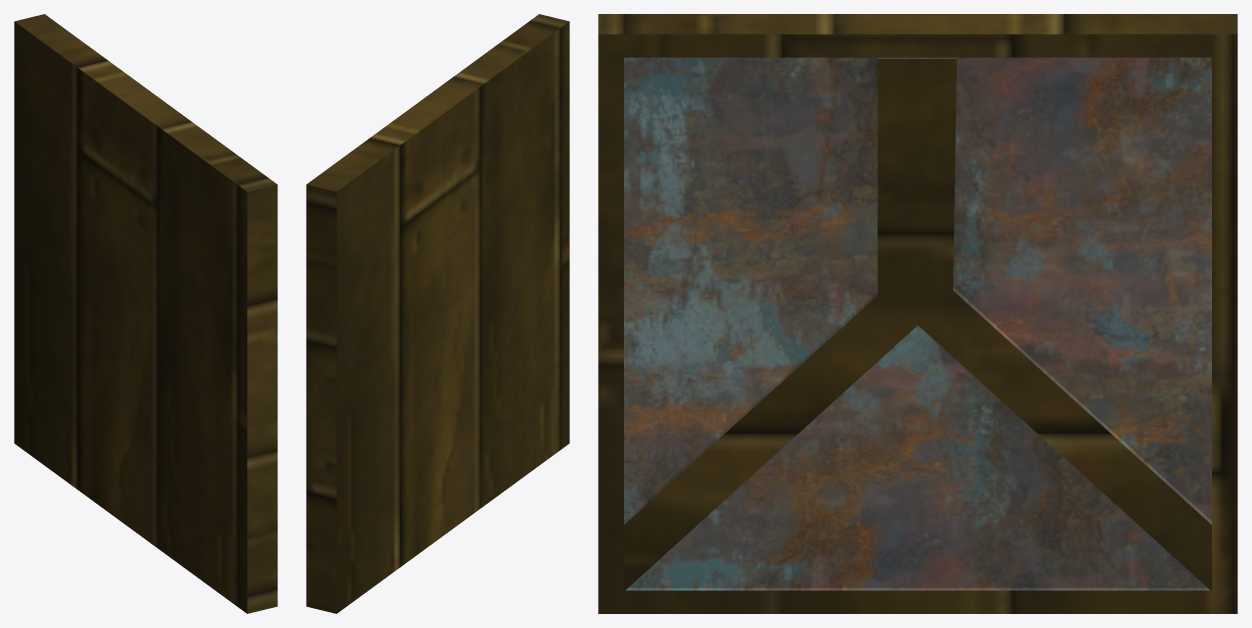
Rendered from wall_v2.fbx.
The picture shows the model from 3 angles, left to right: view 1: azimuth 30°, elevation 25°; view 2: azimuth 150°, elevation 25°; view 3: azimuth 270°, elevation 25°; orthographic projection. The views are drawn at different scales.
Visible parts, largest first — view 1: Plane.001; view 2: Plane.001; view 3: Plane.001.
Part boxes in pixels (box(x1,y1,x2,y2)): Plane.001: box(14, 14, 277, 613); Plane.001: box(306, 14, 569, 613); Plane.001: box(598, 14, 1237, 613).
Bounding box in the file's own units: 15.82 × 200 × 200.
